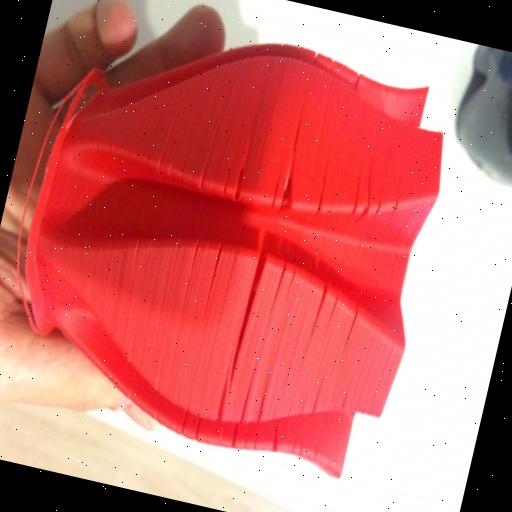cracks: (204, 148, 304, 380), (302, 276, 373, 350), (201, 400, 263, 467), (339, 156, 394, 227)
